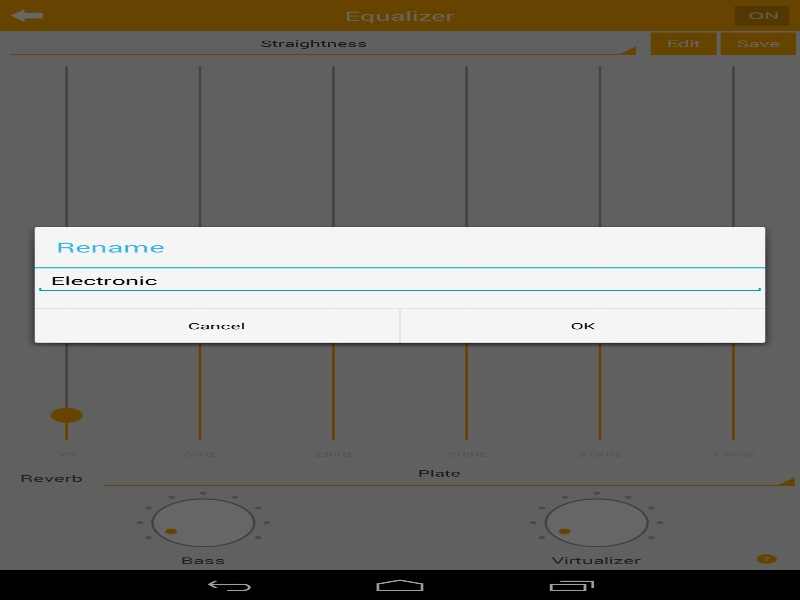Button: (34, 309, 399, 342), (400, 309, 765, 342)
Input: (34, 268, 765, 293)
